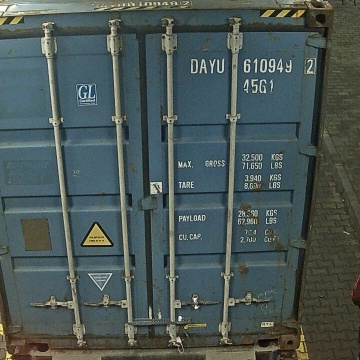serial_id: (189, 58, 313, 73)
